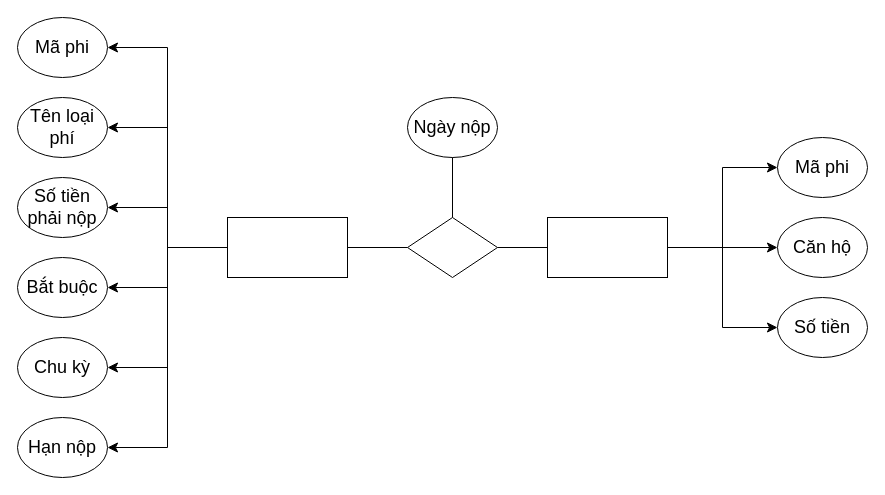
The diagram is 885 pixels wide and 495 high, and some of its shapes have lost their labels. The box of each missing label's shape, as (x1, y1, x2, y2) in pixels:
Lịch sử nộp: (546, 216, 668, 278)
Nộp: (406, 216, 498, 278)
Phí: (226, 216, 348, 278)
